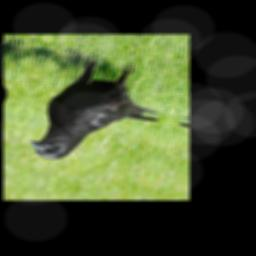Crow: (24, 50, 175, 176)
